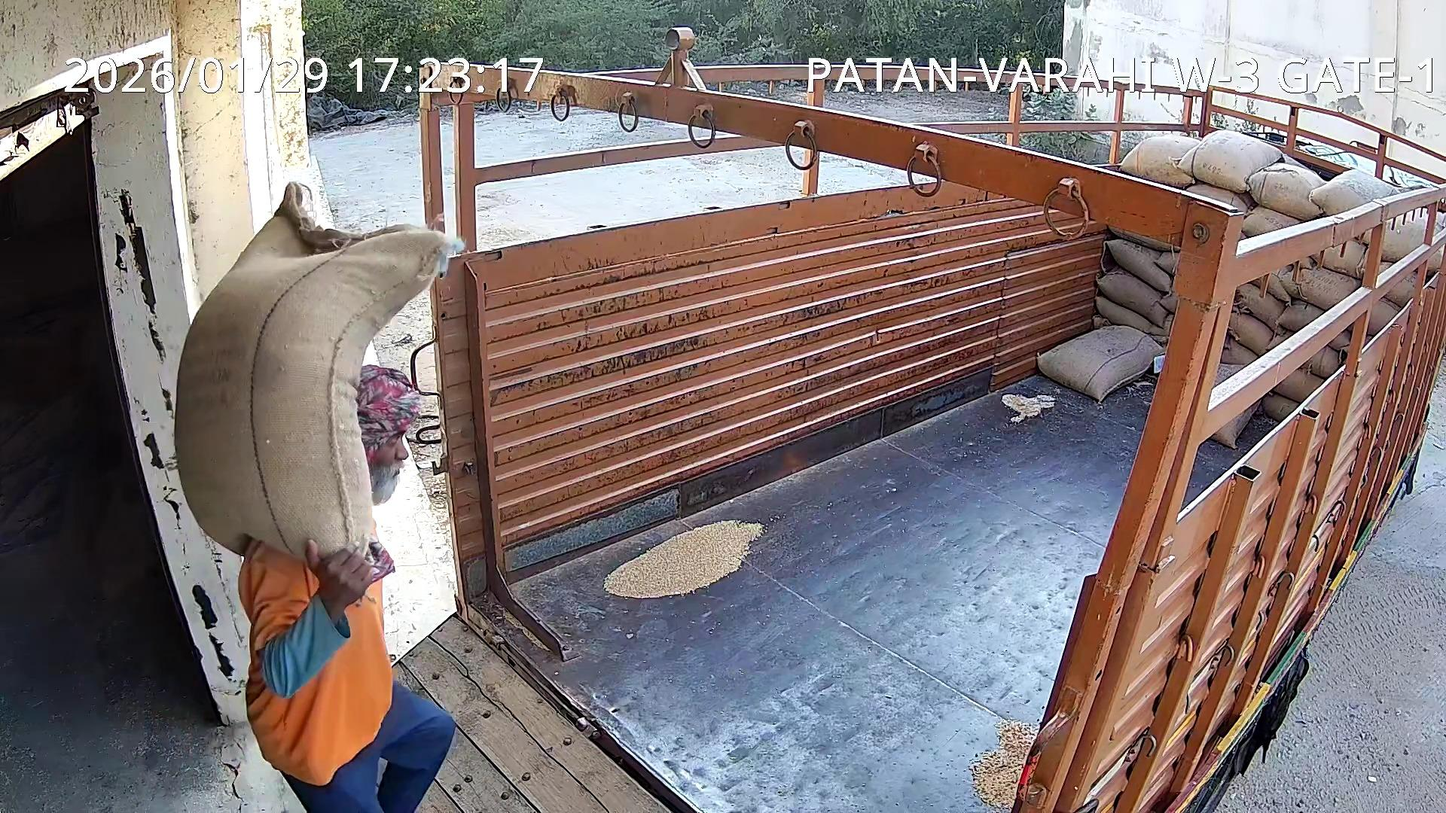Sack: (173, 183, 463, 556)
